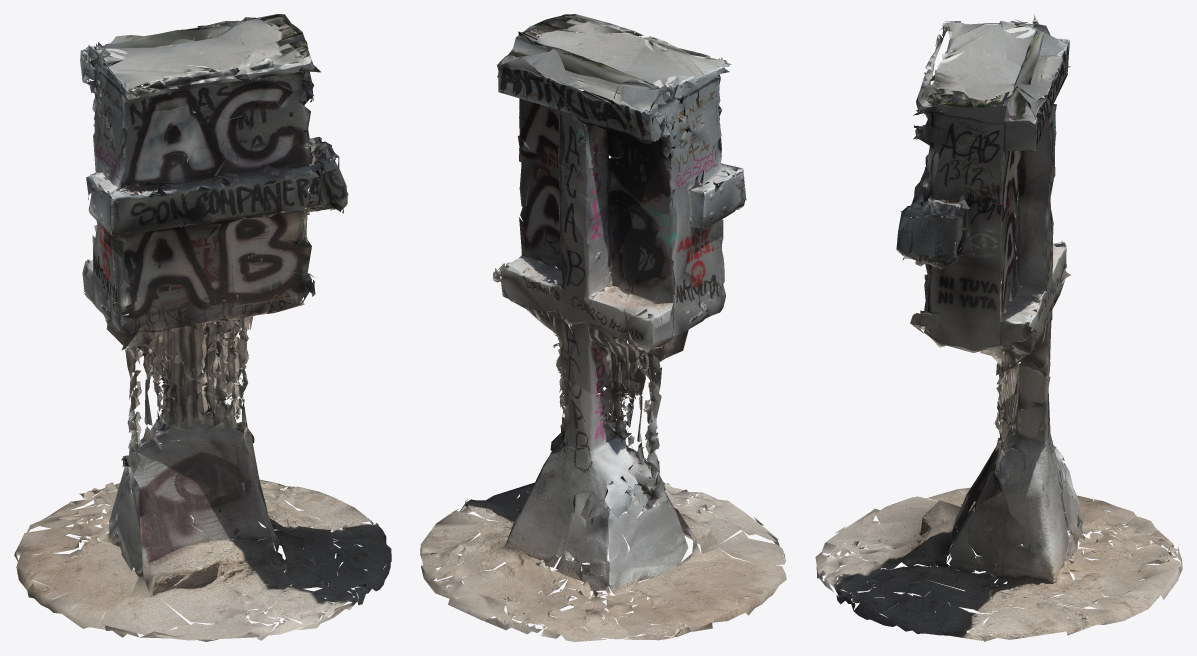
File: CajaDignidad_.glb
3 renders of one model, left to right at view 1: azimuth 30°, elevation 25°; view 2: azimuth 150°, elevation 25°; view 3: azimuth 270°, elevation 25°, orthographic. The views are drawn at different scales.
Visible parts, largest first — view 1: Object_2; view 2: Object_2; view 3: Object_2.
Part boxes in pixels (<box>): Object_2: <box>14,14,391,641</box>; Object_2: <box>420,14,786,641</box>; Object_2: <box>815,14,1182,641</box>.
Bounding box in the file's own units: 4.11 × 6.43 × 4.17.
1 material, 1 textured.
